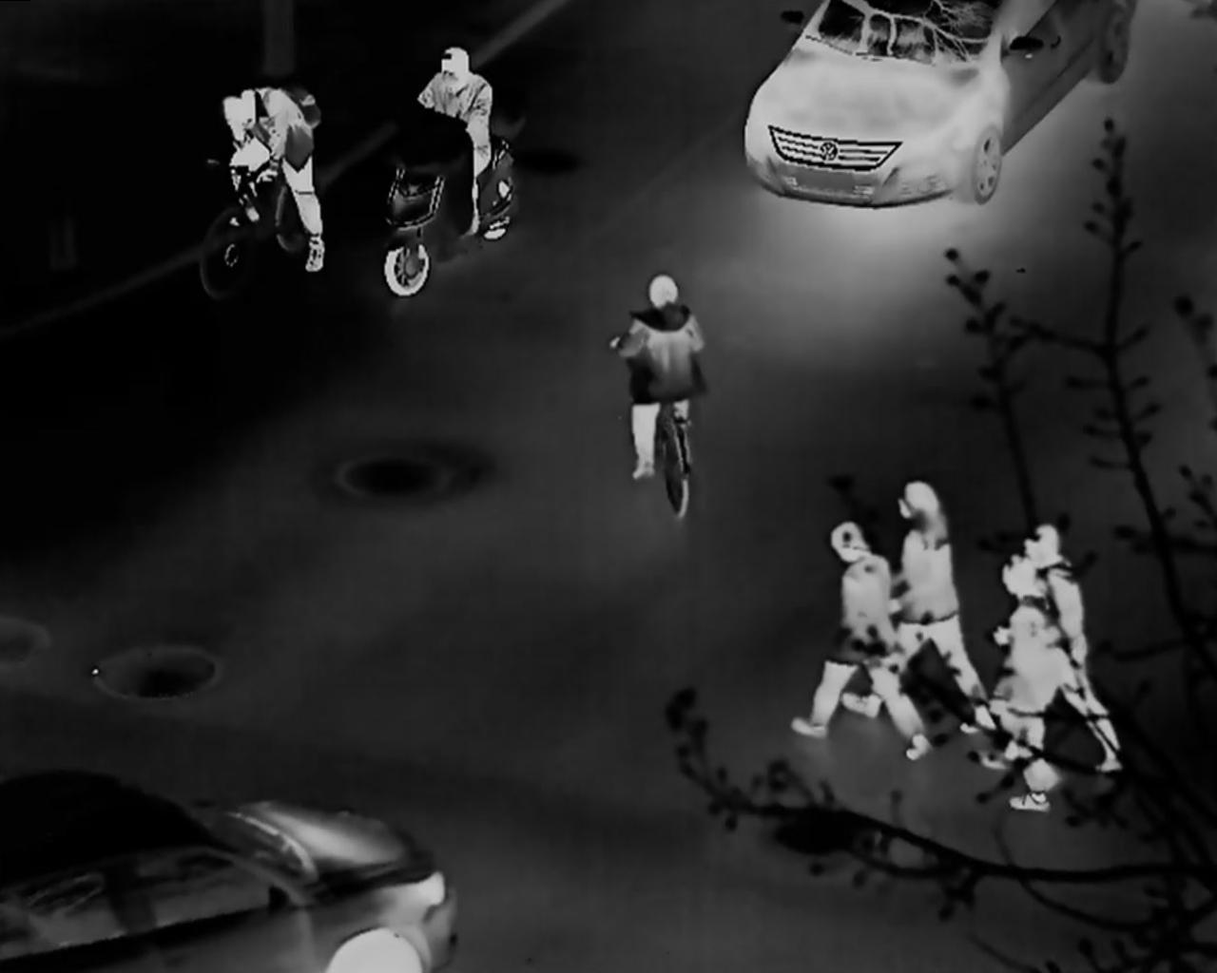person: (782, 515, 936, 759), (1024, 518, 1121, 775), (885, 479, 990, 709), (216, 80, 330, 274), (983, 555, 1063, 814), (607, 274, 705, 483), (415, 43, 491, 243)
